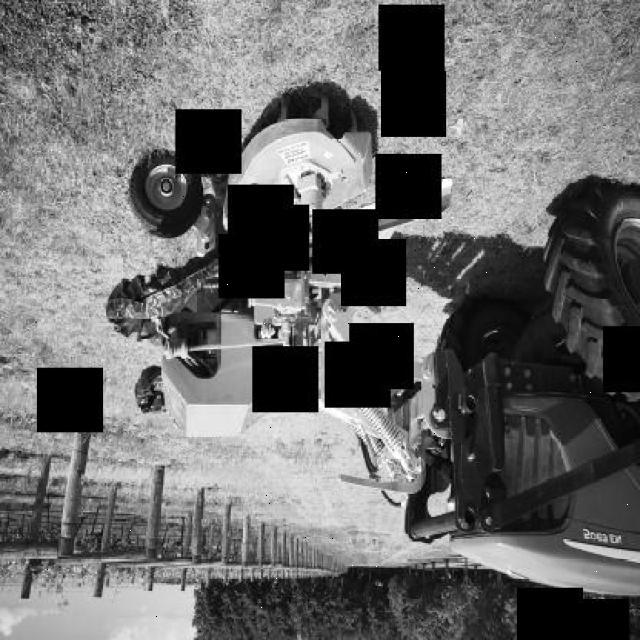Tratores - v5 YOLO V8L 2024-11-13: (350, 48, 638, 630)
